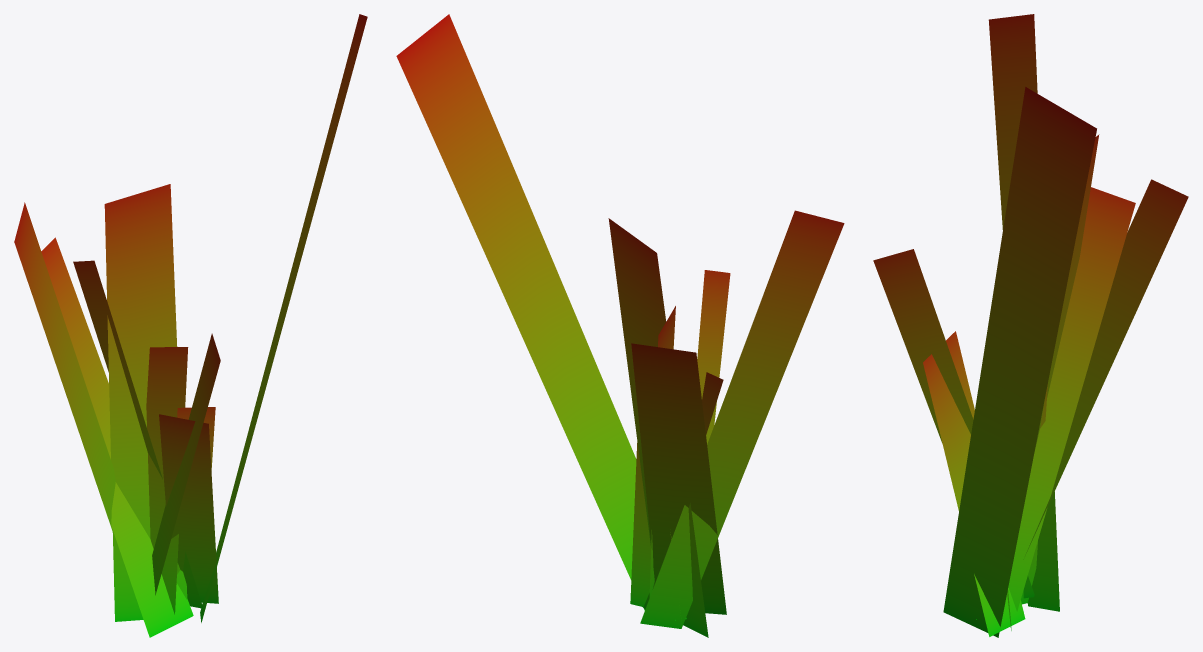
File: Leafy Nineawn_LOD2_Var6_tlijciuia.fbx
3 views of the same model, side by side, from view 1: azimuth 30°, elevation 25°; view 2: azimuth 150°, elevation 25°; view 3: azimuth 270°, elevation 25° (orthographic). The views are drawn at different scales.
Visible parts, largest first — view 1: _e1b0_Var6_LOD2; view 2: _e1b0_Var6_LOD2; view 3: _e1b0_Var6_LOD2.
Part boxes in pixels (x1,y1,x2,y2): _e1b0_Var6_LOD2: [14, 14, 367, 637]; _e1b0_Var6_LOD2: [396, 14, 844, 637]; _e1b0_Var6_LOD2: [873, 14, 1188, 637].
Bounding box in the file's own units: 4.74 × 6.31 × 2.75.
